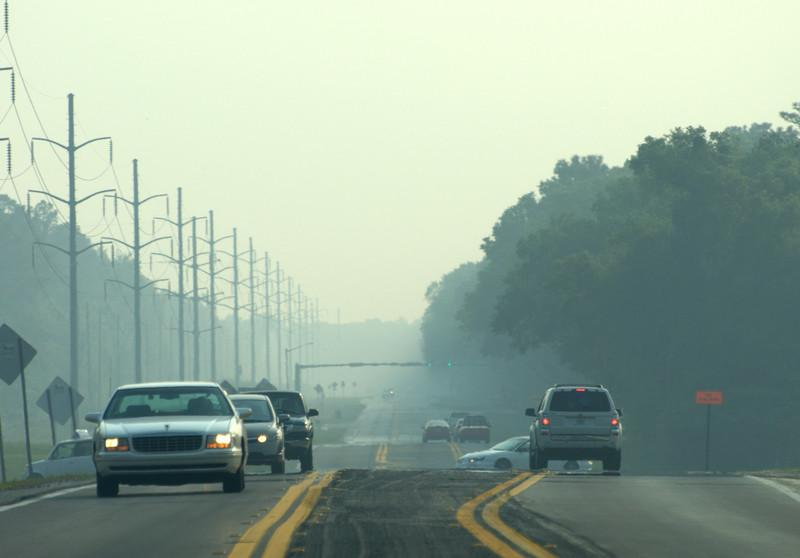car: (86, 379, 252, 492), (526, 382, 625, 475), (218, 387, 319, 470), (193, 393, 291, 474), (20, 427, 144, 485), (460, 434, 595, 476), (456, 414, 491, 443), (420, 417, 452, 445)
